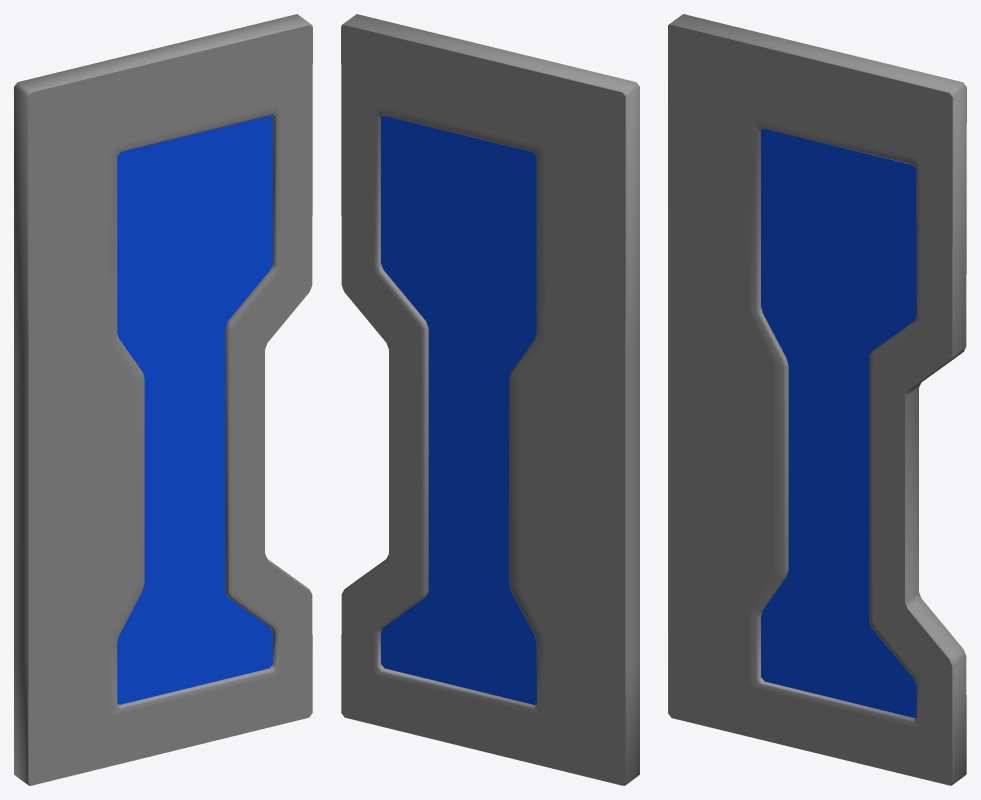
Rendered from Door03_Door01.FBX.
3 renders of one model, left to right at view 1: azimuth 30°, elevation 25°; view 2: azimuth 150°, elevation 25°; view 3: azimuth 330°, elevation 25°, orthographic.
Visible parts, largest first — view 1: SM_Door03_Door01; view 2: SM_Door03_Door01; view 3: SM_Door03_Door01.
Boxes of the visible parts, x1=… form: SM_Door03_Door01: x1=14, y1=14, x2=312, y2=785; SM_Door03_Door01: x1=341, y1=14, x2=639, y2=785; SM_Door03_Door01: x1=668, y1=14, x2=966, y2=785.
Bounding box in the file's own units: 112 × 260 × 9.54.
